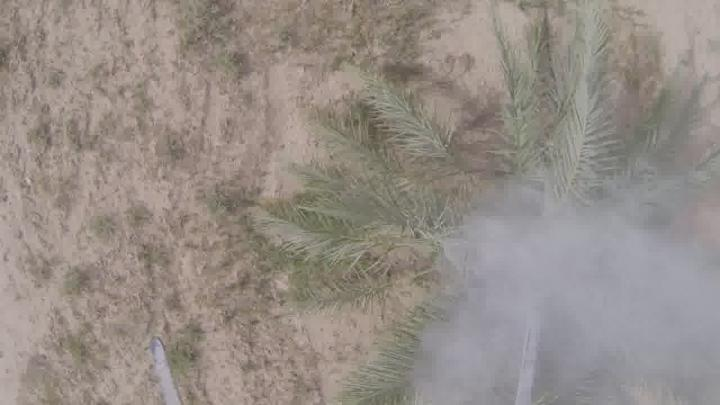Date-Palm-Crown: (366, 112, 654, 382)
